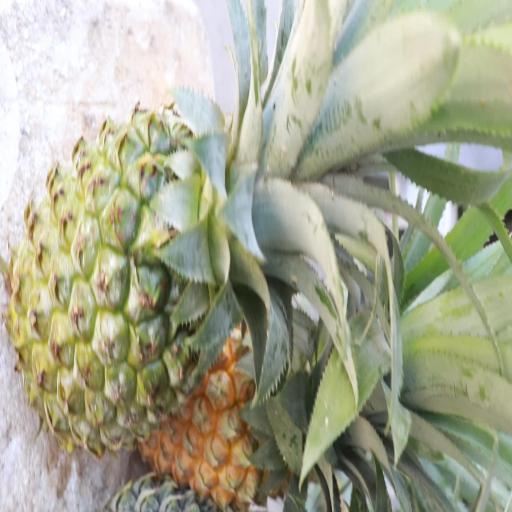------------------------------: (15, 126, 240, 448)
Pineapple - v8 v1: (146, 318, 332, 511)
